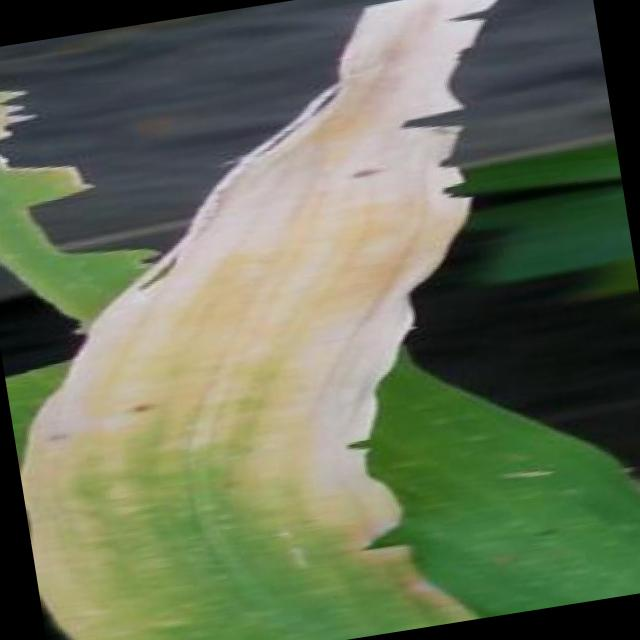Rice_Bacterial_Blight: (0, 205, 403, 640)
